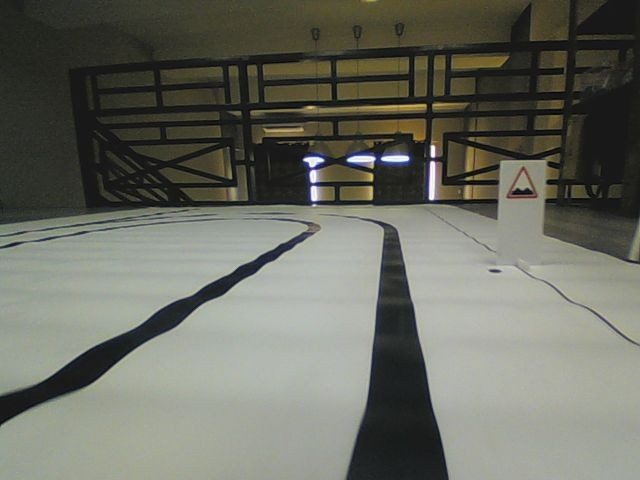Nerov: (505, 164, 538, 200)
